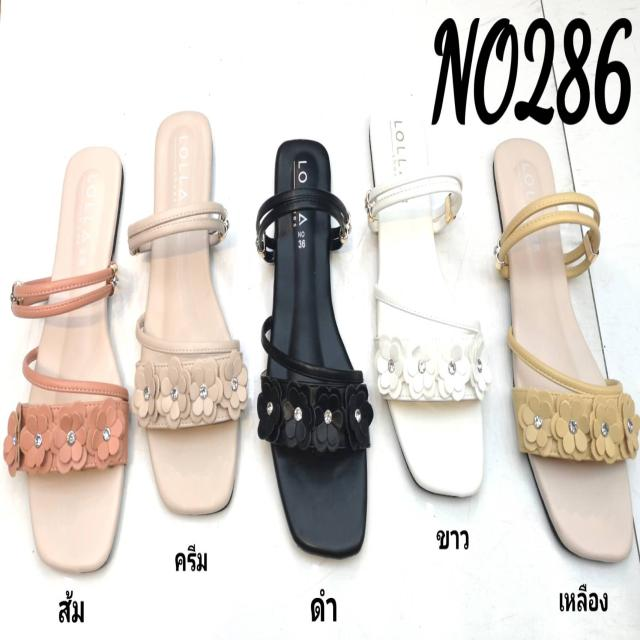black: (262, 139, 371, 555)
cream: (141, 108, 236, 516)
orange: (25, 148, 127, 576)
white: (370, 106, 486, 499)
yellow: (495, 138, 635, 563)
